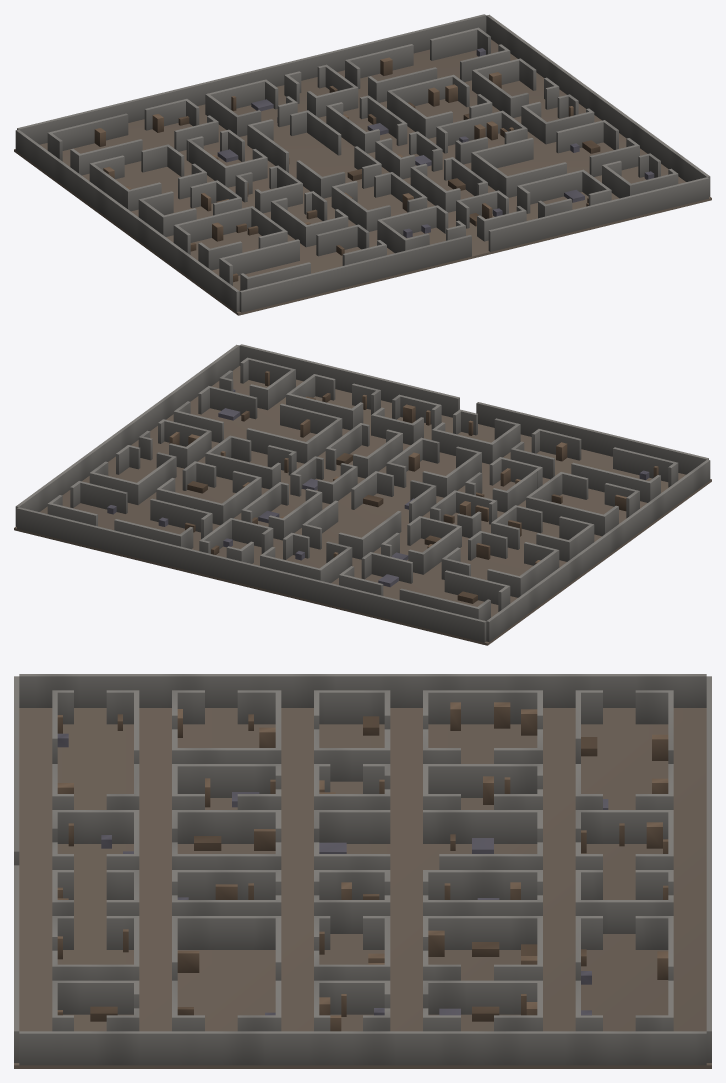
Rendered from mansion.glb.
The picture shows the model from 3 angles, top to bottom: view 1: azimuth 30°, elevation 25°; view 2: azimuth 150°, elevation 25°; view 3: azimuth 270°, elevation 25°; orthographic projection. The views are drawn at different scales.
Visible parts, largest first — view 1: mansion; view 2: mansion; view 3: mansion.
Boxes of the visible parts, box(x1,y1,x2,y2) form: mansion: box(14, 14, 711, 315); mansion: box(14, 344, 711, 645); mansion: box(14, 674, 711, 1068).
Bounding box in the file's own units: 2.17 × 0.0989 × 1.78.
